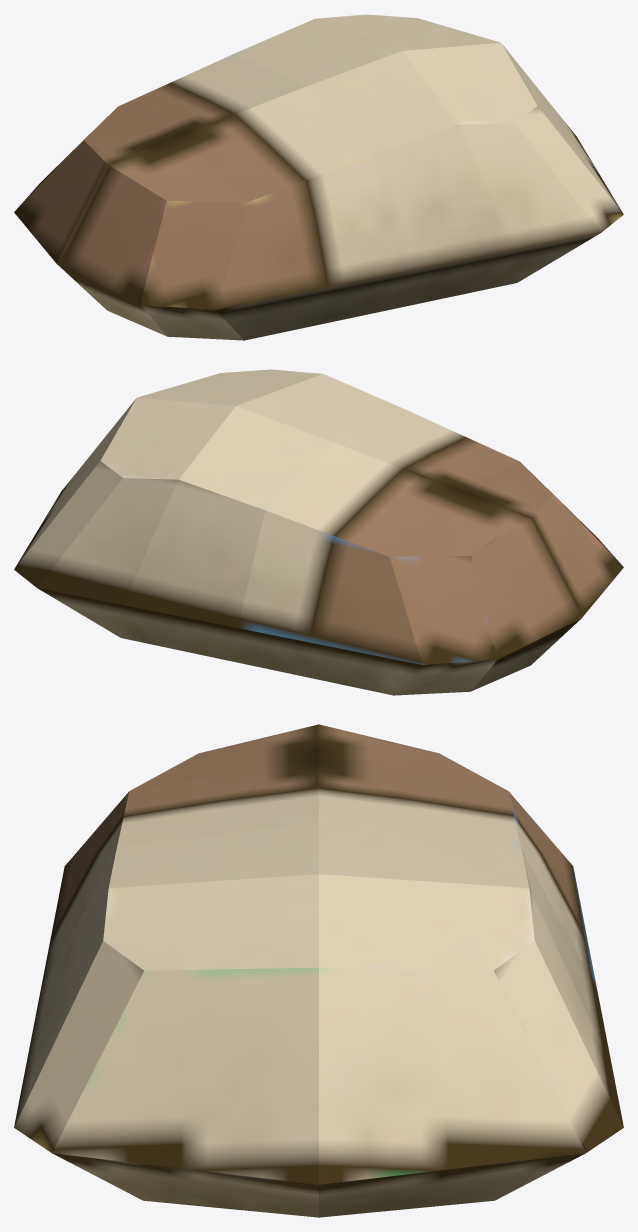
File: Mouse.obj
The picture shows the model from 3 angles, top to bottom: view 1: azimuth 30°, elevation 25°; view 2: azimuth 150°, elevation 25°; view 3: azimuth 270°, elevation 25°; orthographic projection. The views are drawn at different scales.
Parts seen in each view (by area): view 1: Mouse; view 2: Mouse; view 3: Mouse.
Part boxes in pixels (x1,y1,x2,y2): Mouse: (14, 14, 623, 340); Mouse: (14, 369, 623, 695); Mouse: (14, 724, 623, 1217).
Bounding box in the file's own units: 0.9984 × 0.3439 × 0.6965.
Materials: 1 (1 with a texture image).
